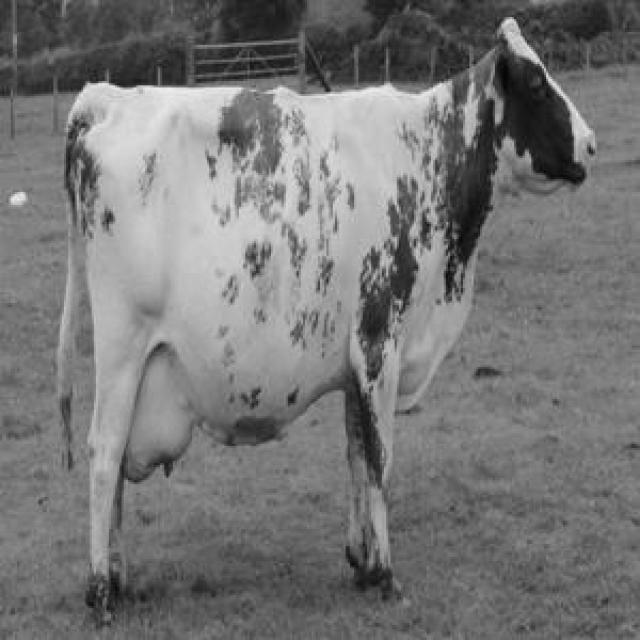cow: (60, 20, 596, 621)
